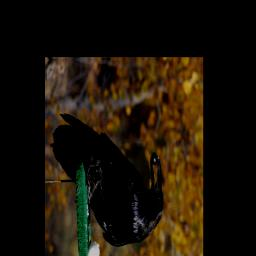Crow: (50, 112, 163, 249)
